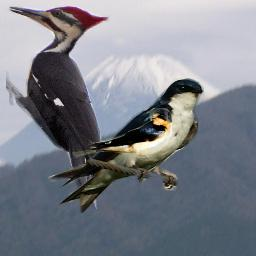Swallow: (48, 78, 204, 213), (72, 108, 174, 161)
Woodpecker: (6, 6, 112, 209)
